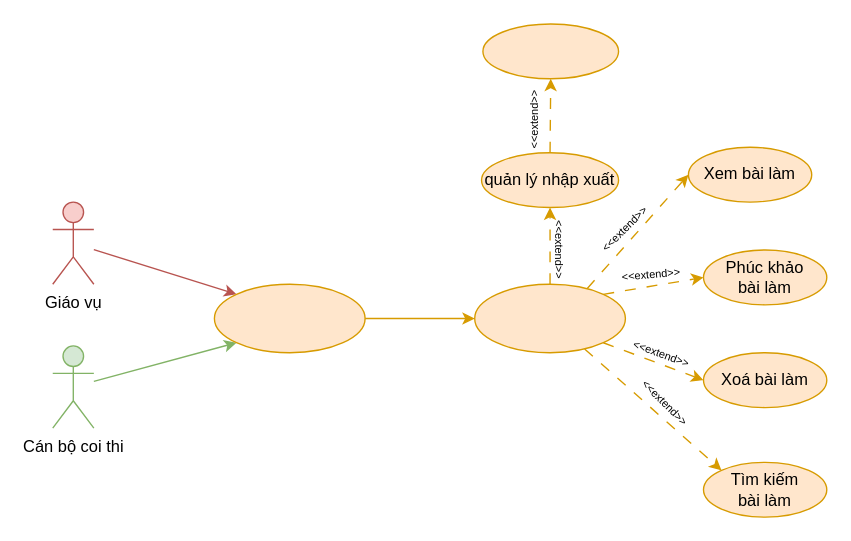
Image size: 851x541. Some labels were removed from this diagram. Each missing label, with the centre of its shape:
Quản lý bài làm: point 549,318
Xuất bài làm: point 550,51
Đăng nhập: point 289,318
